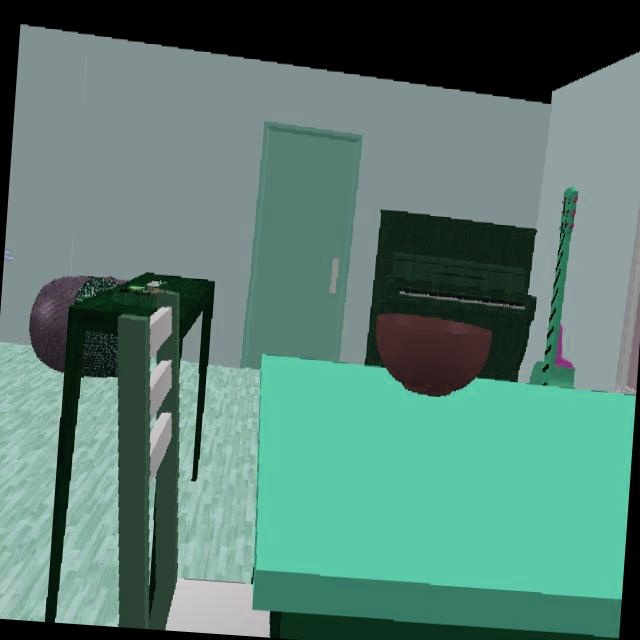chair: (117, 292, 267, 633)
table: (254, 356, 635, 640), (45, 290, 155, 619), (130, 273, 214, 479)
